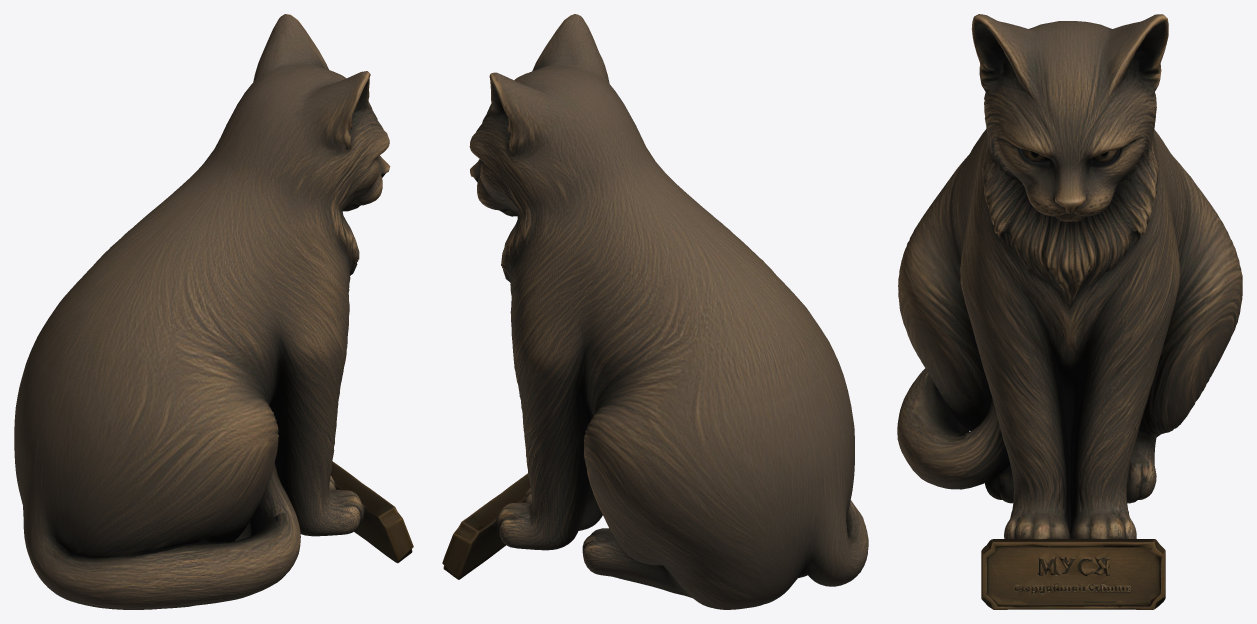
Rendered from musya.glb.
3 views of the same model, side by side, from view 1: azimuth 30°, elevation 25°; view 2: azimuth 150°, elevation 25°; view 3: azimuth 270°, elevation 25° (orthographic). The views are drawn at different scales.
Parts seen in each view (by area): view 1: tripo_node_18c089ca-4a48-474a-9e81-5001755383fb; view 2: tripo_node_18c089ca-4a48-474a-9e81-5001755383fb; view 3: tripo_node_18c089ca-4a48-474a-9e81-5001755383fb.
Part boxes in pixels (box(x1,y1,x2,y2)): tripo_node_18c089ca-4a48-474a-9e81-5001755383fb: box(14, 14, 413, 609); tripo_node_18c089ca-4a48-474a-9e81-5001755383fb: box(442, 14, 868, 609); tripo_node_18c089ca-4a48-474a-9e81-5001755383fb: box(897, 14, 1242, 609).
Size of the model in its own units: 0.7369 by 0.9785 by 0.5354.
1 material, 1 textured.
